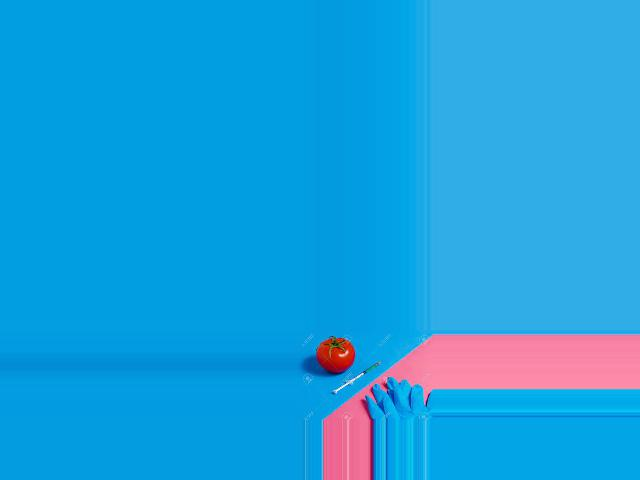tomato: (317, 338, 355, 373)
